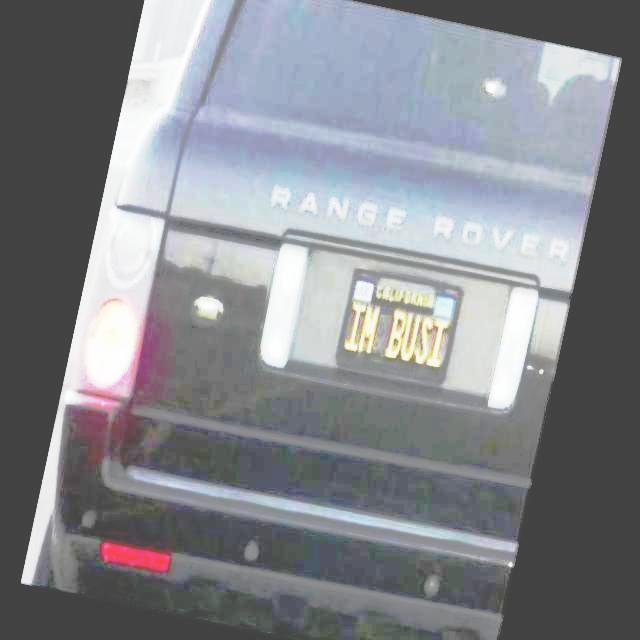license_plate: (340, 268, 466, 390)
